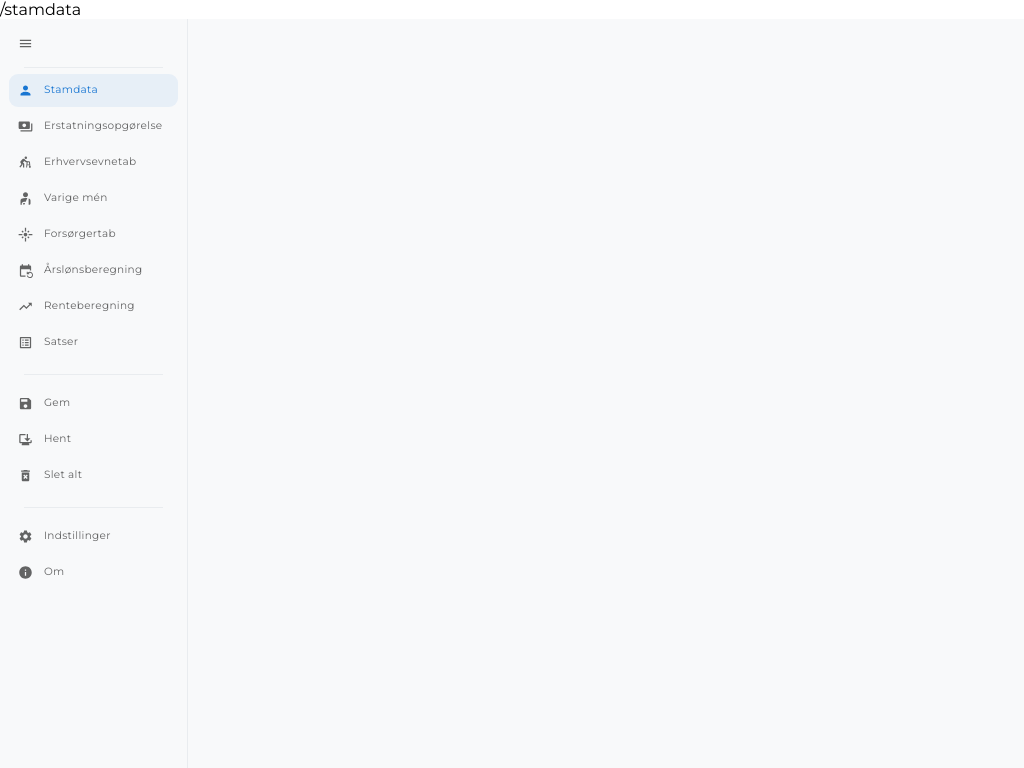
MainLayout – Slet alt-bekræftelse › viser bekræftelsen i appen og sletter intet, før brugeren bekræfter
Click the button "Slet alt": {"x": 93, "y": 476} [9,459,178,492]
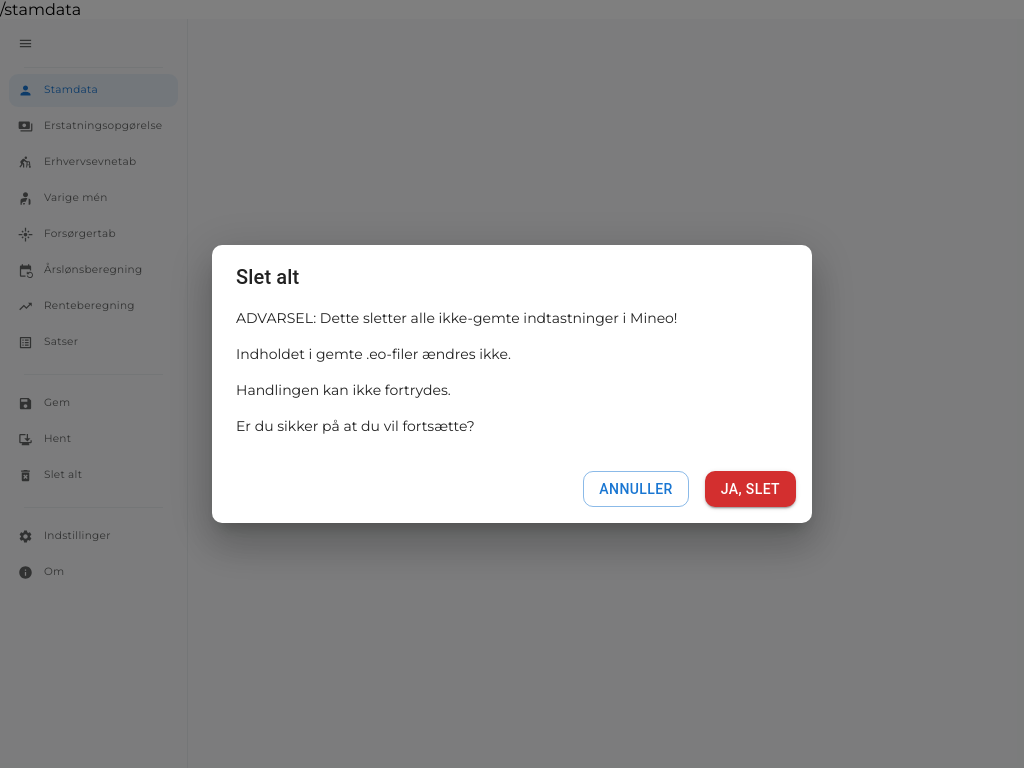
Now the heading "Slet alt" is shown, box [236,265,299,289]
Now the dialog shows "ADVARSEL: Dette sletter alle ikke-gemte indtastninger i Mineo!", box [236,309,678,327]
Now the dialog shows "Indholdet i gemte .eo-filer ændres ikke.", box [236,345,511,363]
